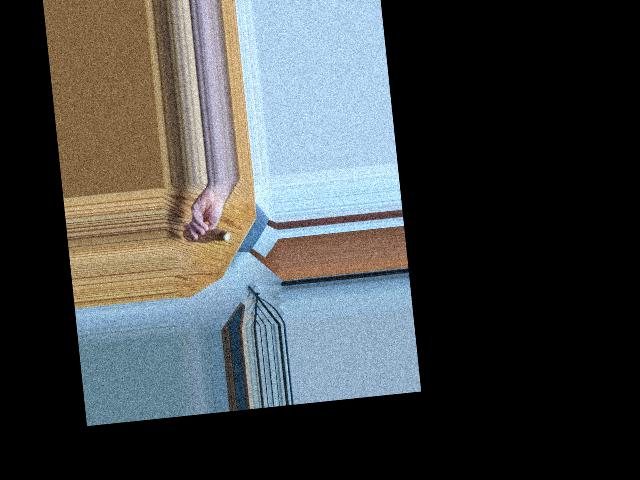sweet_potato: (182, 221, 232, 247)
